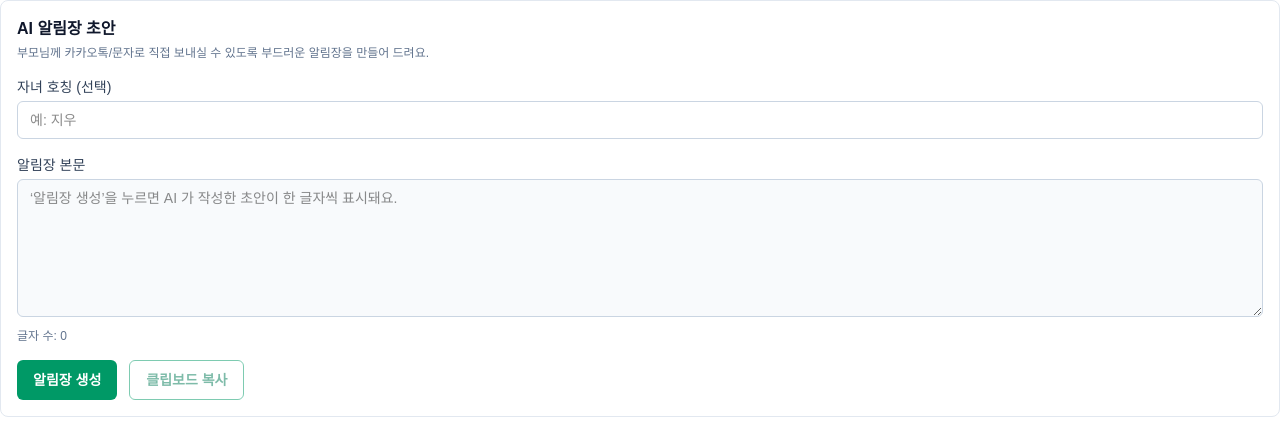
Test case: CushionNoteGenerator (email) › scenario 1: parentEmail 부재 → 텍스트 생성 후에도 이메일 버튼 disabled
The image size is (1280, 434).
What coordinates should you click on to do the following:
click the button with test id "cushion-generate-button"
I would click on:
 (67, 380)
Its box is [17,360,117,400].
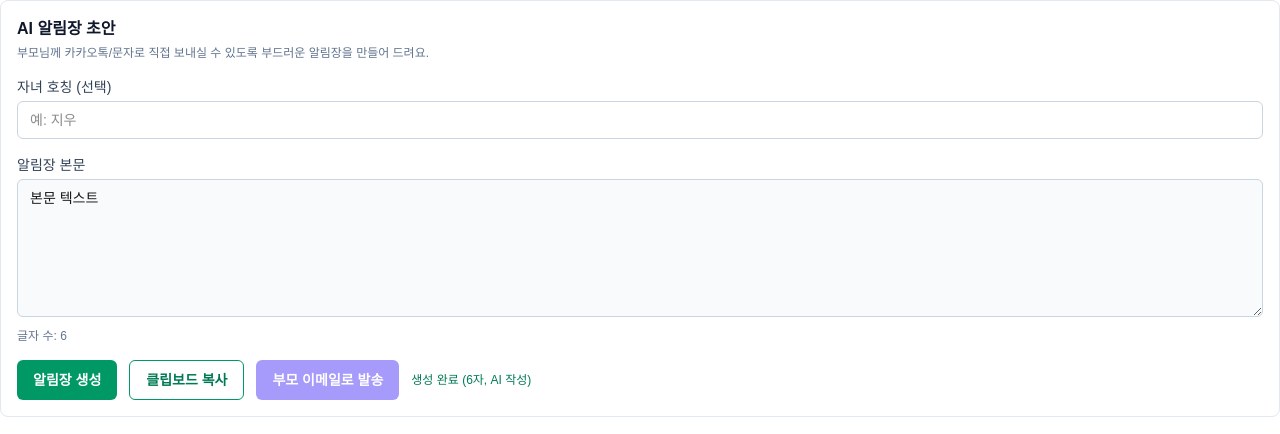
Expected: the text "생성 완료 (6자, AI 작성)" is shown, [411,372,531,388]
Expected: the button with test id "cushion-email-button" is disabled, [256,360,399,400]
